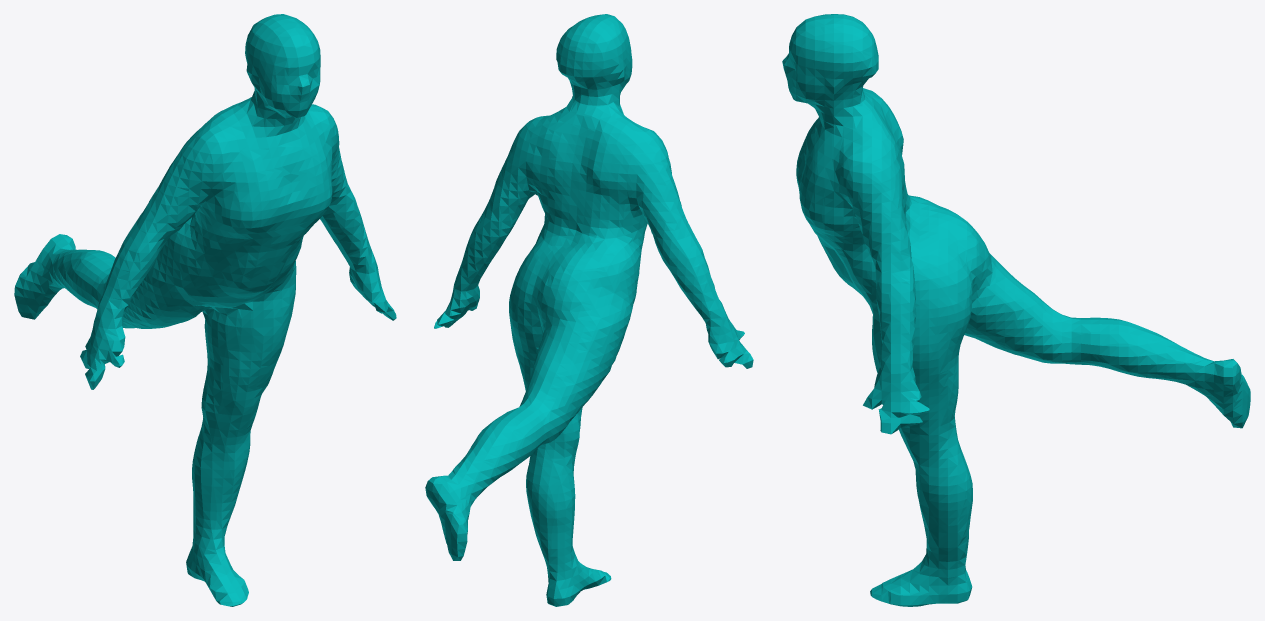
Rendered from human.glb.
3 views of the same model, side by side, from view 1: azimuth 30°, elevation 25°; view 2: azimuth 150°, elevation 25°; view 3: azimuth 270°, elevation 25° (orthographic). The views are drawn at different scales.
Bounding box in the file's own units: 0.3411 × 0.597 × 0.4272.
